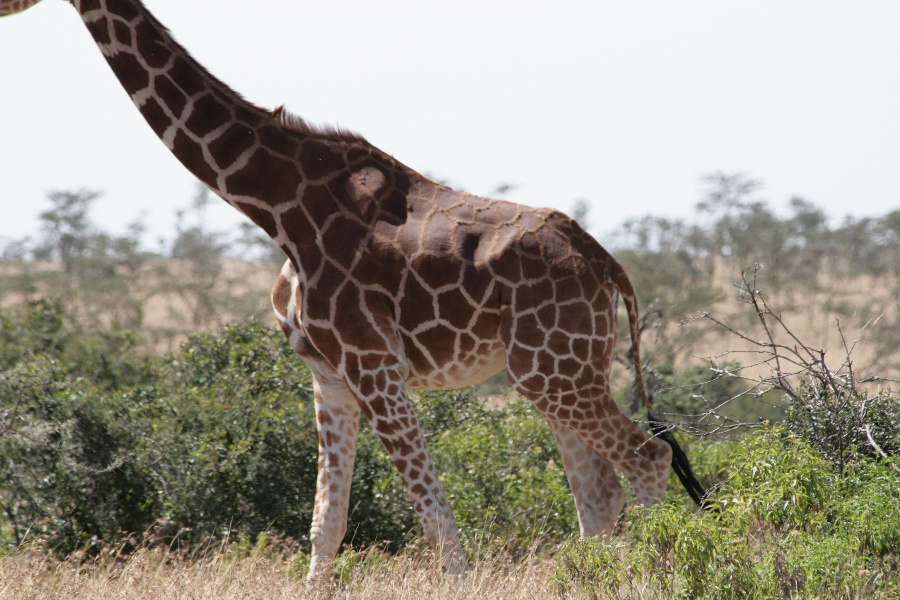giraffe: (0, 1, 693, 576)
